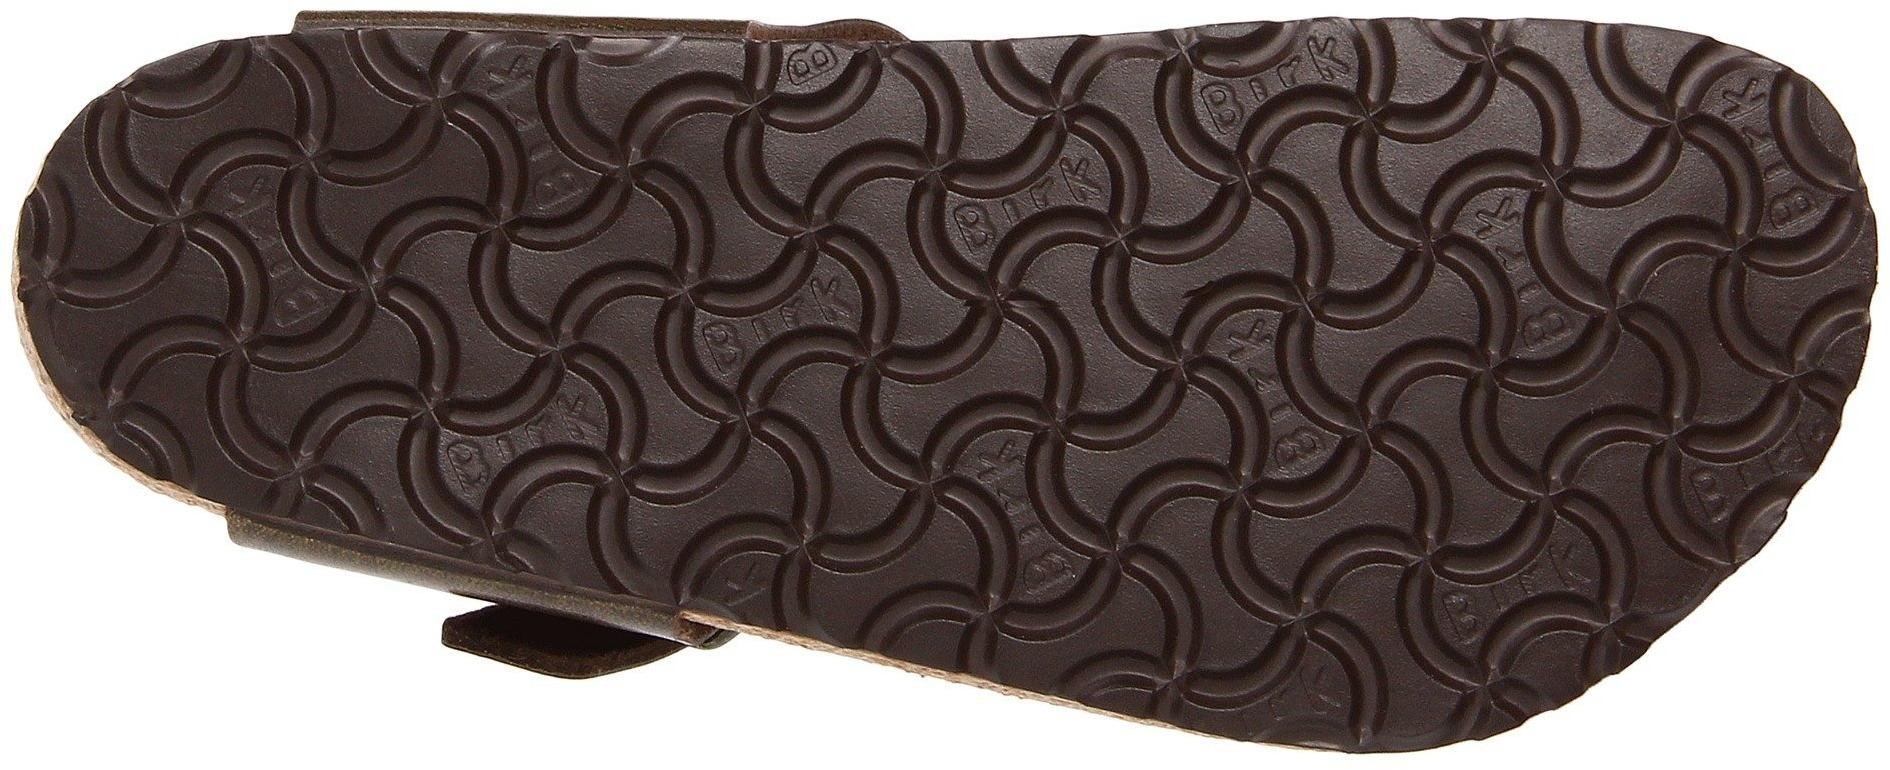bowtie: (178, 43, 758, 560), (1143, 563, 1298, 698)
exclude: (247, 2, 928, 42)
text: (178, 43, 758, 560)
